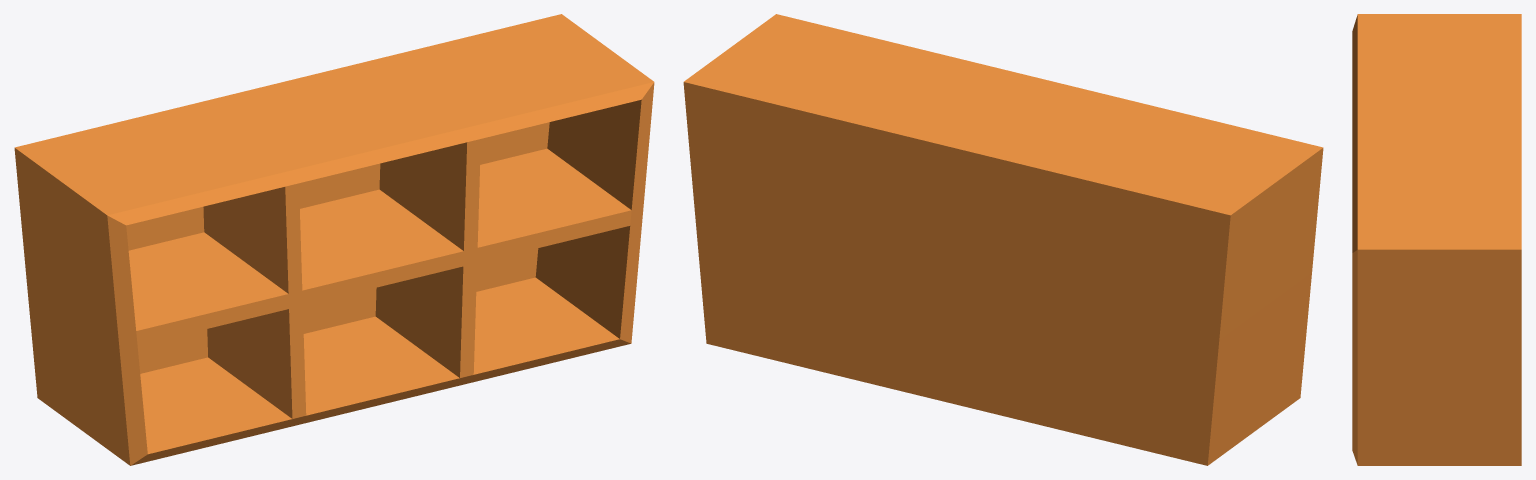
File: oyuncakraf.fbx
The picture shows the model from 3 angles, left to right: view 1: azimuth 30°, elevation 25°; view 2: azimuth 150°, elevation 25°; view 3: azimuth 270°, elevation 25°; orthographic projection. The views are drawn at different scales.
Visible parts, largest first — view 1: Cube.026; view 2: Cube.026; view 3: Cube.026.
Boxes of the visible parts, <box> form: Cube.026: <box>14,14,654,465</box>; Cube.026: <box>683,14,1323,465</box>; Cube.026: <box>1352,14,1521,465</box>.
Bounding box in the file's own units: 629 × 191 × 281.
